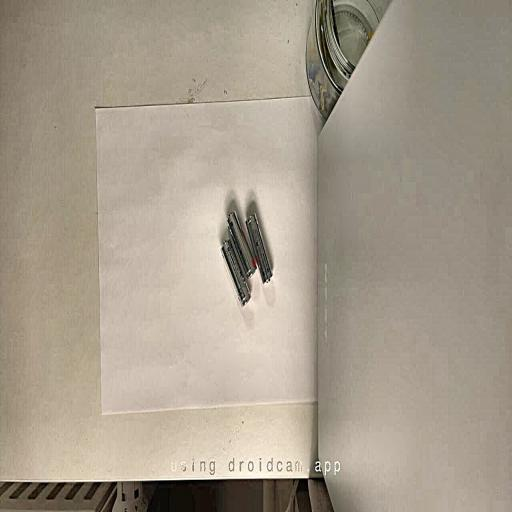RainbowAA: (227, 211, 256, 278), (221, 240, 250, 306), (246, 214, 272, 283)
